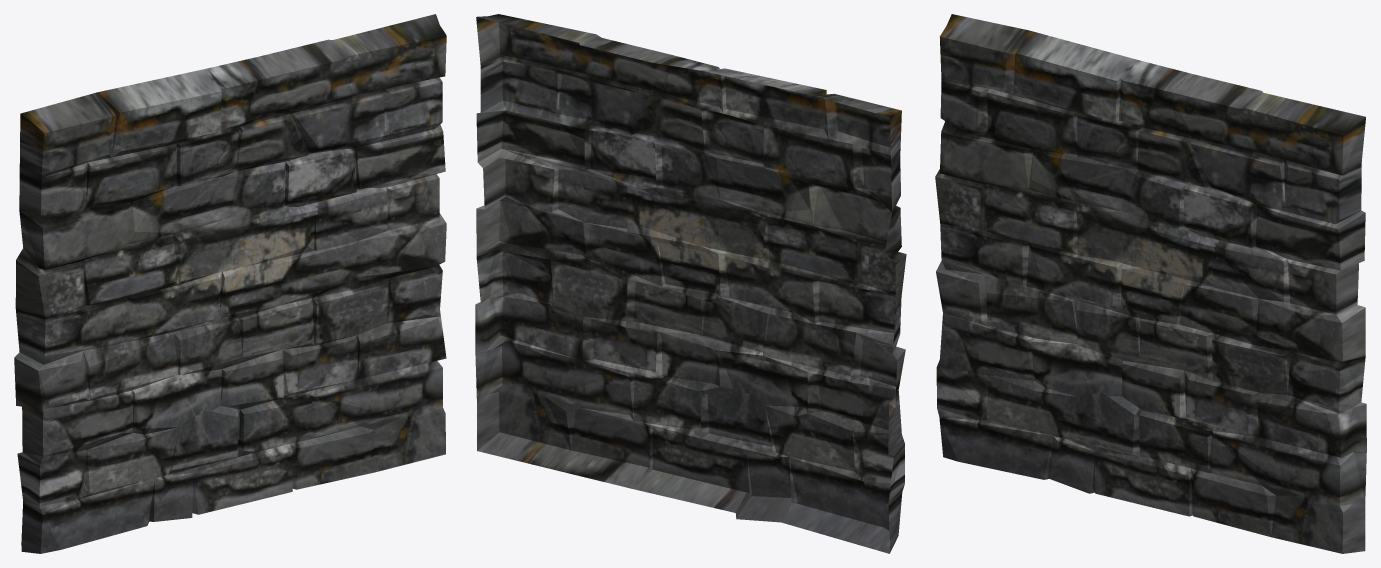
The model's file is Wall 1.fbx.
The picture shows the model from 3 angles, left to right: view 1: azimuth 30°, elevation 25°; view 2: azimuth 150°, elevation 25°; view 3: azimuth 330°, elevation 25°; orthographic projection.
Visible parts, largest first — view 1: Wall 1; view 2: Wall 1; view 3: Wall 1.
Boxes of the visible parts, bbox=[...] form: Wall 1: bbox=[14, 14, 446, 553]; Wall 1: bbox=[475, 14, 906, 553]; Wall 1: bbox=[935, 14, 1366, 553].
Size of the model in its own units: 1015 by 1016 by 82.72.
Materials: 1 (1 with a texture image).
